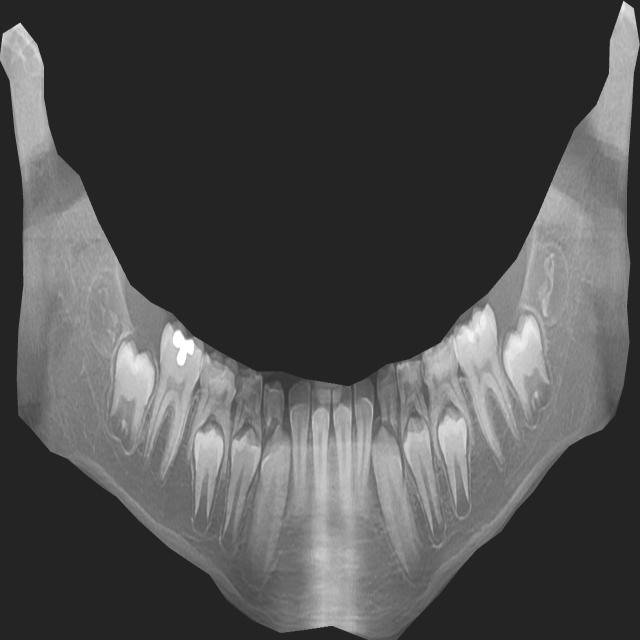mandibula: (0, 1, 640, 640)
